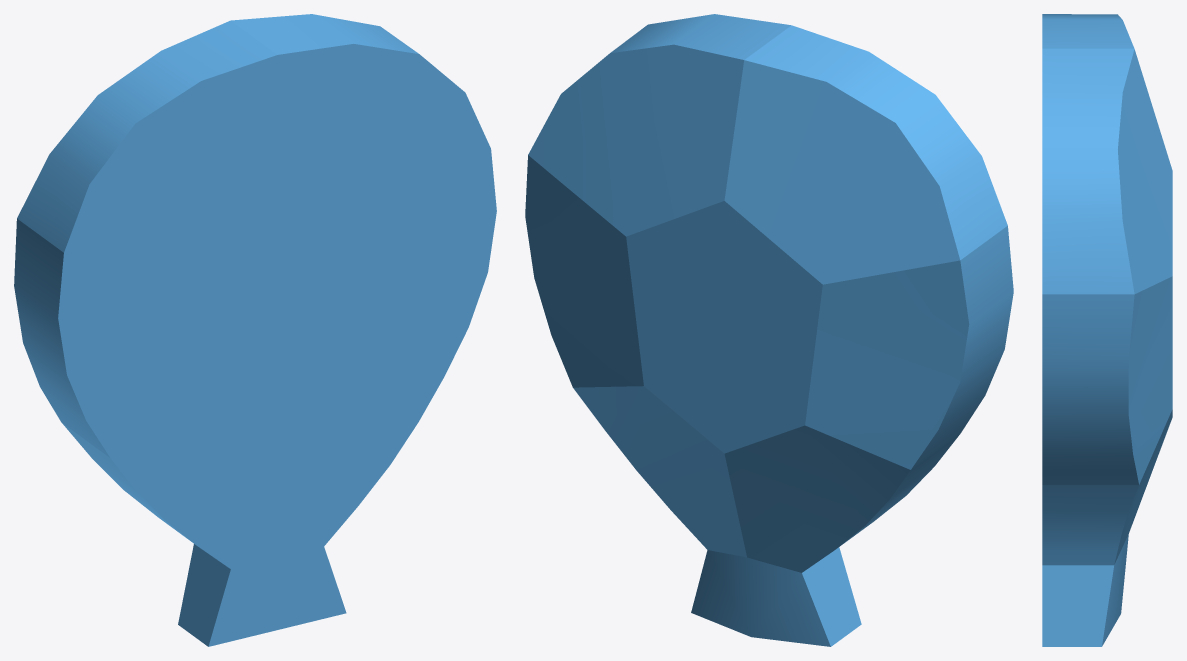
File: Ballon.glb
3 renders of one model, left to right at view 1: azimuth 30°, elevation 25°; view 2: azimuth 150°, elevation 25°; view 3: azimuth 270°, elevation 25°, orthographic. The views are drawn at different scales.
Visible parts, largest first — view 1: Laughter_Laughter_0; view 2: Laughter_Laughter_0; view 3: Laughter_Laughter_0.
Boxes of the visible parts, x1=… form: Laughter_Laughter_0: x1=14, y1=14, x2=496, y2=646; Laughter_Laughter_0: x1=525, y1=14, x2=1013, y2=646; Laughter_Laughter_0: x1=1042, y1=14, x2=1172, y2=646.
Bounding box in the file's own units: 2.05 × 2.56 × 0.5368.
Materials: 1 (1 with a texture image).
